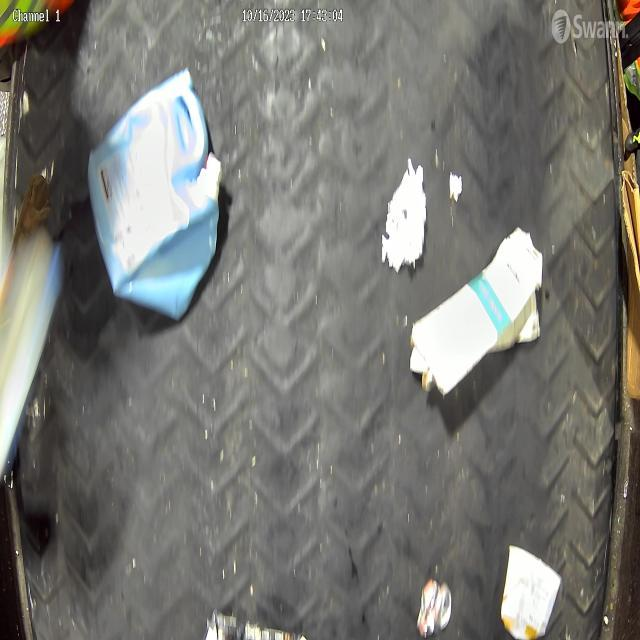can: (412, 567, 456, 640)
non_white_jug: (88, 73, 226, 328)
